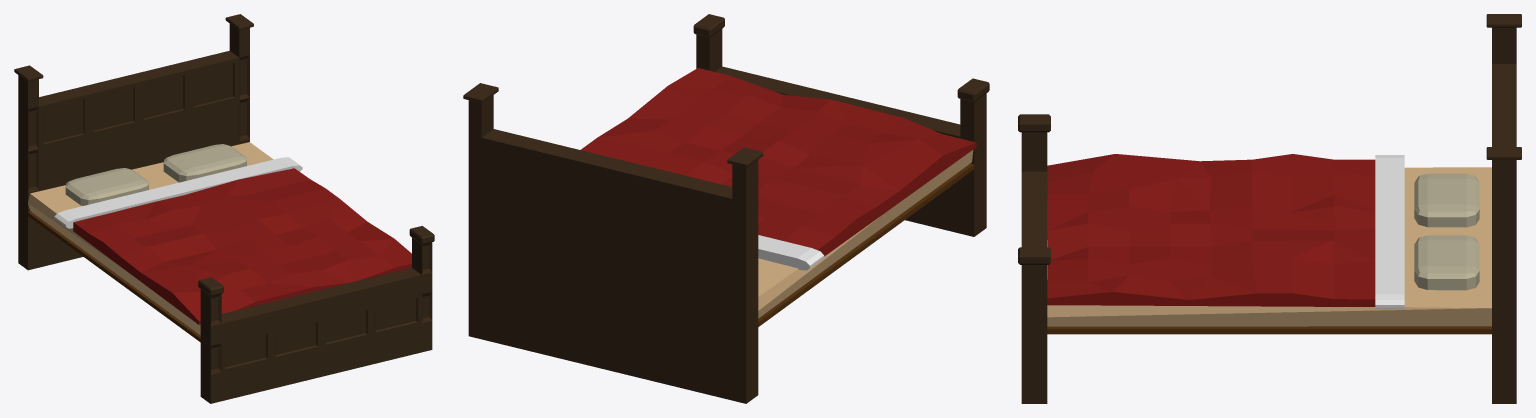
Rendered from Bed.fbx.
3 renders of one model, left to right at view 1: azimuth 30°, elevation 25°; view 2: azimuth 150°, elevation 25°; view 3: azimuth 270°, elevation 25°, orthographic. The views are drawn at different scales.
Visible parts, largest first — view 1: Bed; view 2: Bed; view 3: Bed.
Boxes of the visible parts, x1,y1,x2,y2 form: Bed: [14, 14, 434, 403]; Bed: [463, 14, 989, 403]; Bed: [1018, 14, 1521, 403].
Bounding box in the file's own units: 128 × 100 × 183.
